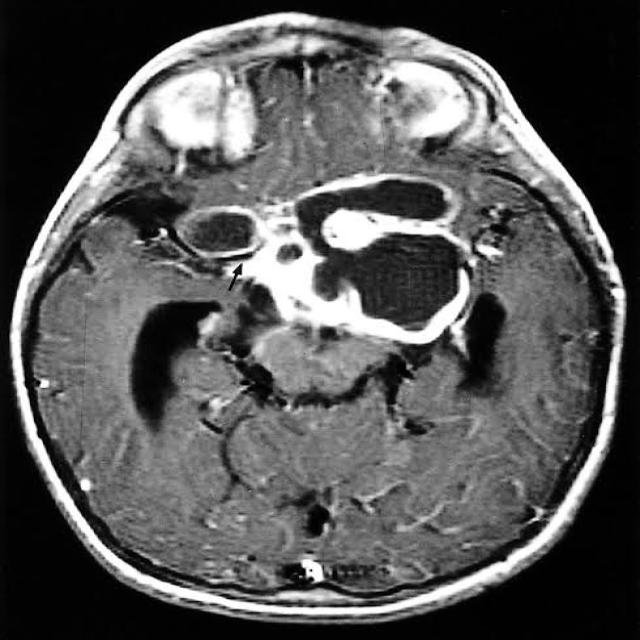Tumor-Cell: (165, 152, 468, 354)
